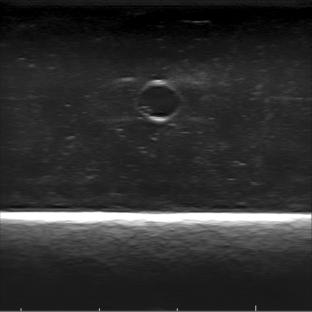vessel: (134, 79, 182, 123)
